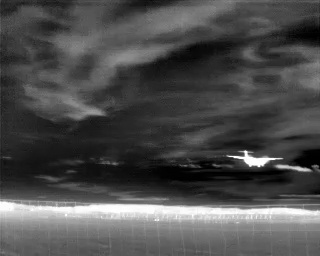AIRPLANE: (224, 147, 285, 171)
